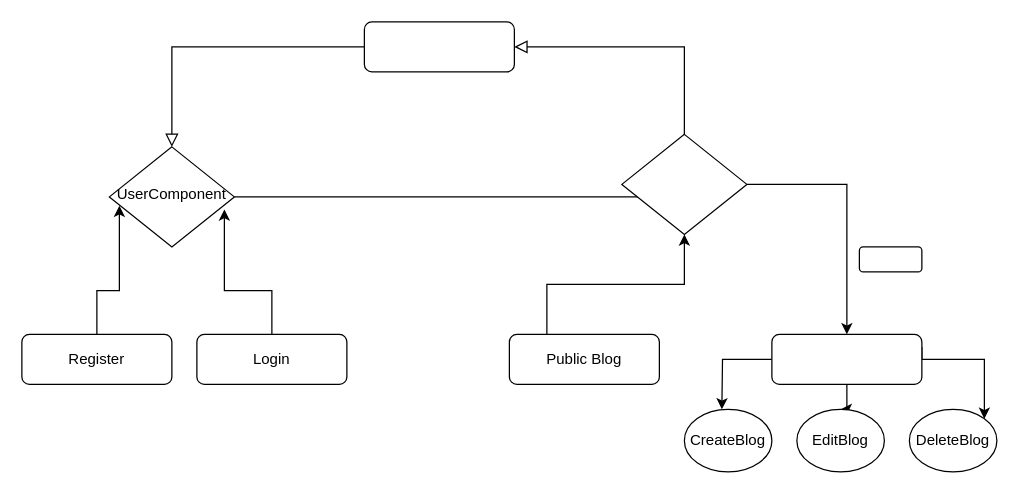
The diagram is 1019 pixels wide and 494 high, and some of its shapes have lost their labels. Here are the shapes that lost their labels. From the top down, the centre of each, then its label:
At (438,46): "App.js".
At (684,183): "BlogComponent".
At (890,259): "loggin?".
At (846,358): "personal Blog".
